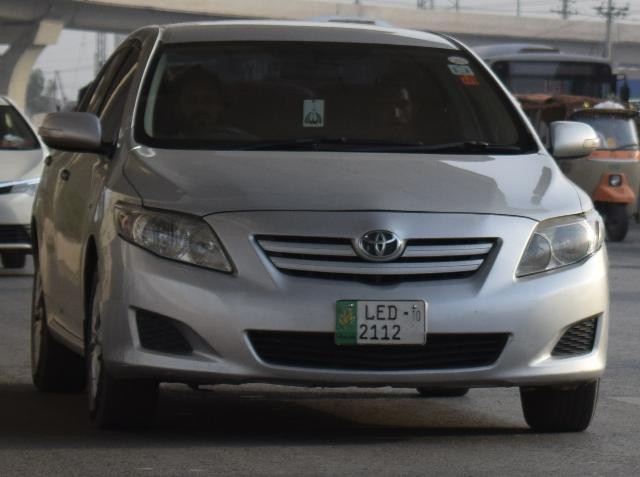plate: (337, 296, 428, 346)
